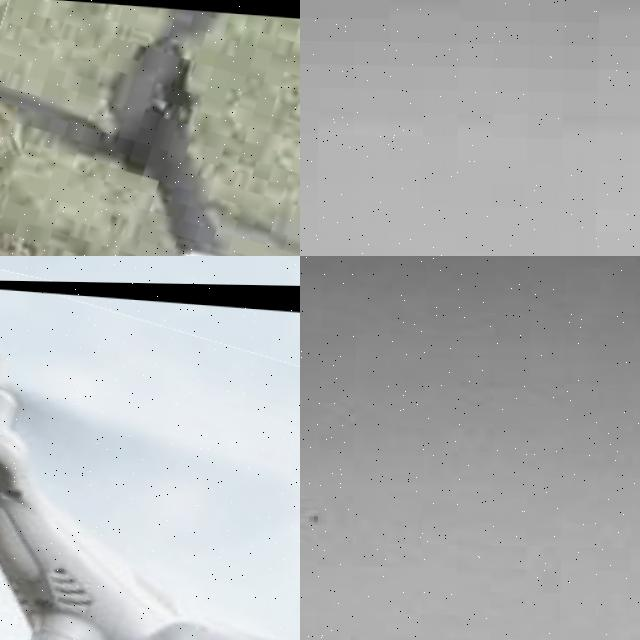0: (0, 0, 300, 256)
drone: (0, 277, 300, 640)
